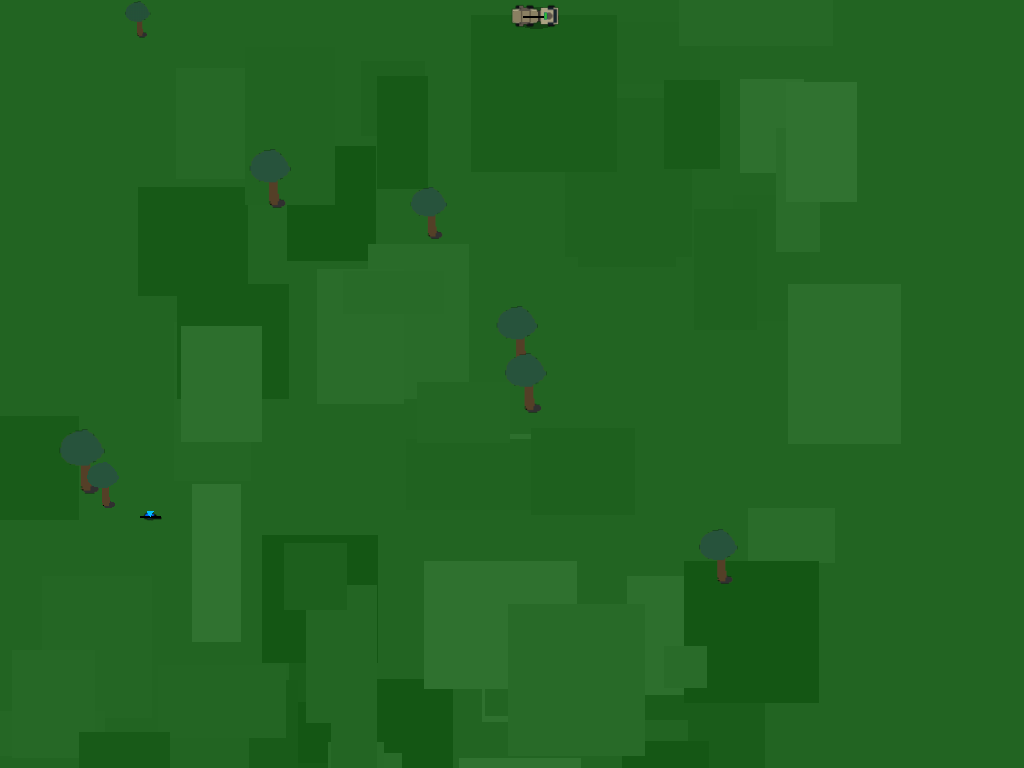HIMARS: (508, 0, 556, 48)
Sniper: (135, 501, 164, 530)
